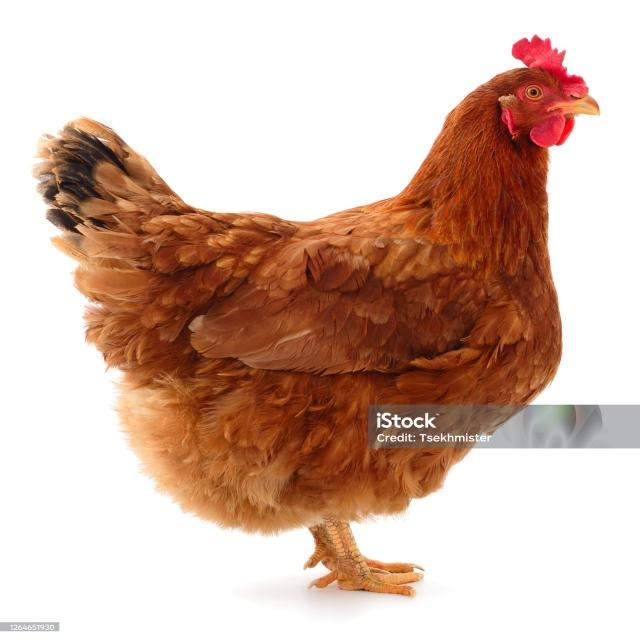Chicken: (35, 2, 607, 627)
